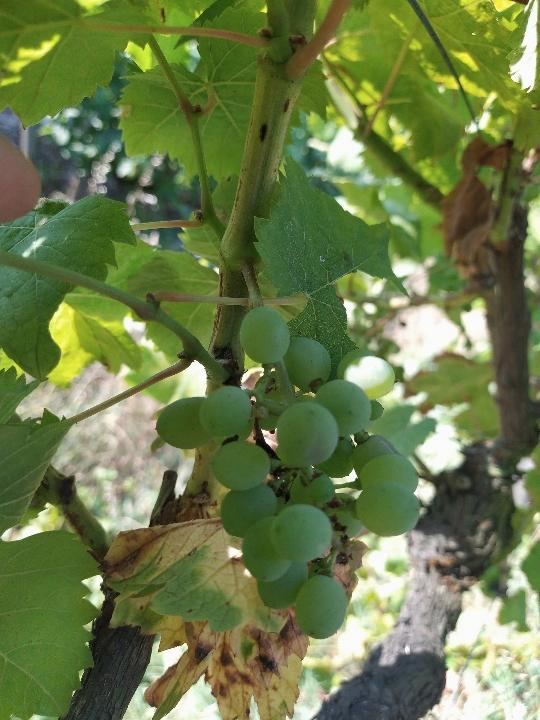grape: (154, 299, 424, 644)
